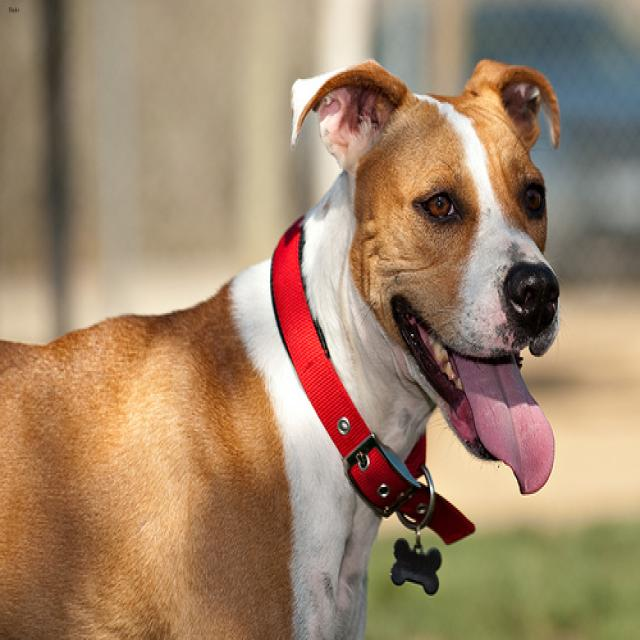dog: (290, 42, 560, 491)
